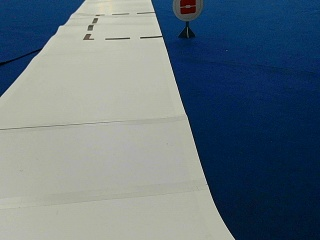company: (172, 0, 203, 21)
